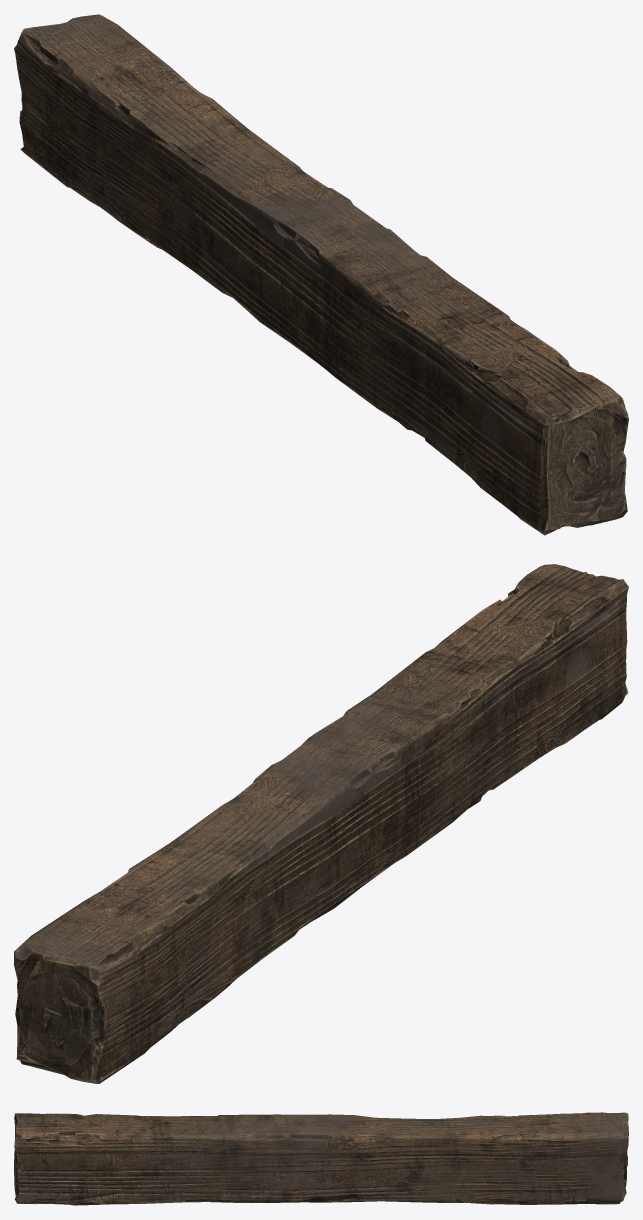
File: SM_WoodBeam03.glb
The picture shows the model from 3 angles, top to bottom: view 1: azimuth 30°, elevation 25°; view 2: azimuth 150°, elevation 25°; view 3: azimuth 270°, elevation 25°; orthographic projection. The views are drawn at different scales.
Parts seen in each view (by area): view 1: SM_WoodBeam03; view 2: SM_WoodBeam03; view 3: SM_WoodBeam03.
Part boxes in pixels (x1=…): SM_WoodBeam03: x1=14, y1=14, x2=628, y2=535; SM_WoodBeam03: x1=14, y1=564, x2=628, y2=1083; SM_WoodBeam03: x1=14, y1=1112, x2=628, y2=1205.
Bounding box in the file's own units: 0.3238 × 0.4282 × 3.27.
Materials: 1 (1 with a texture image).
